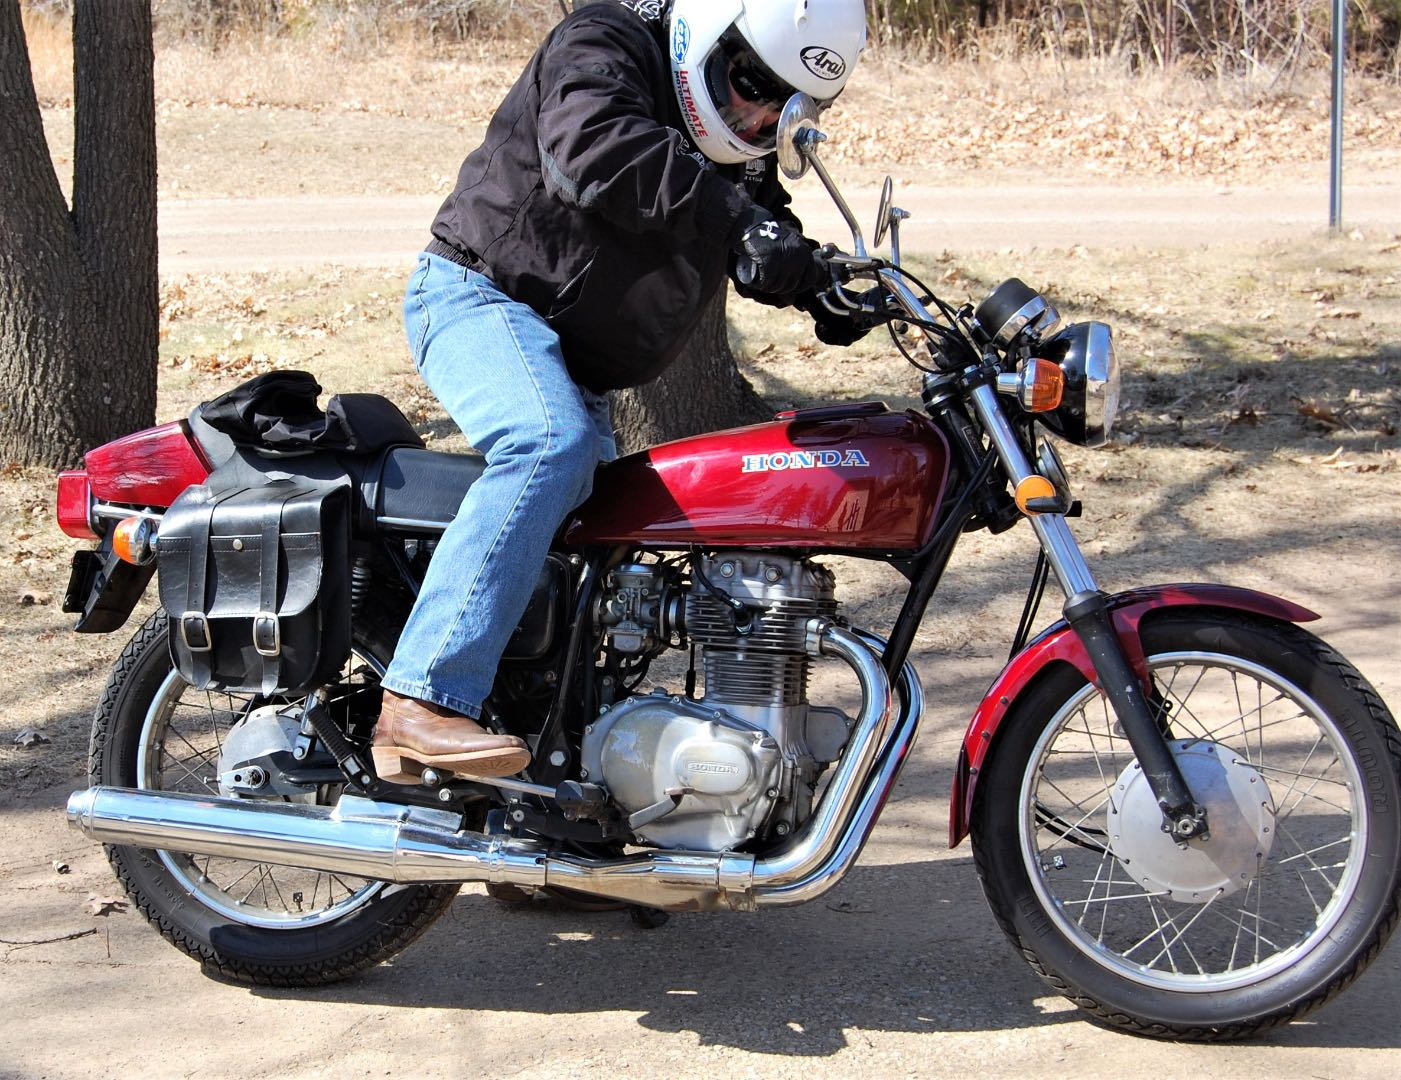Motor Cycle: (77, 239, 1377, 998)
